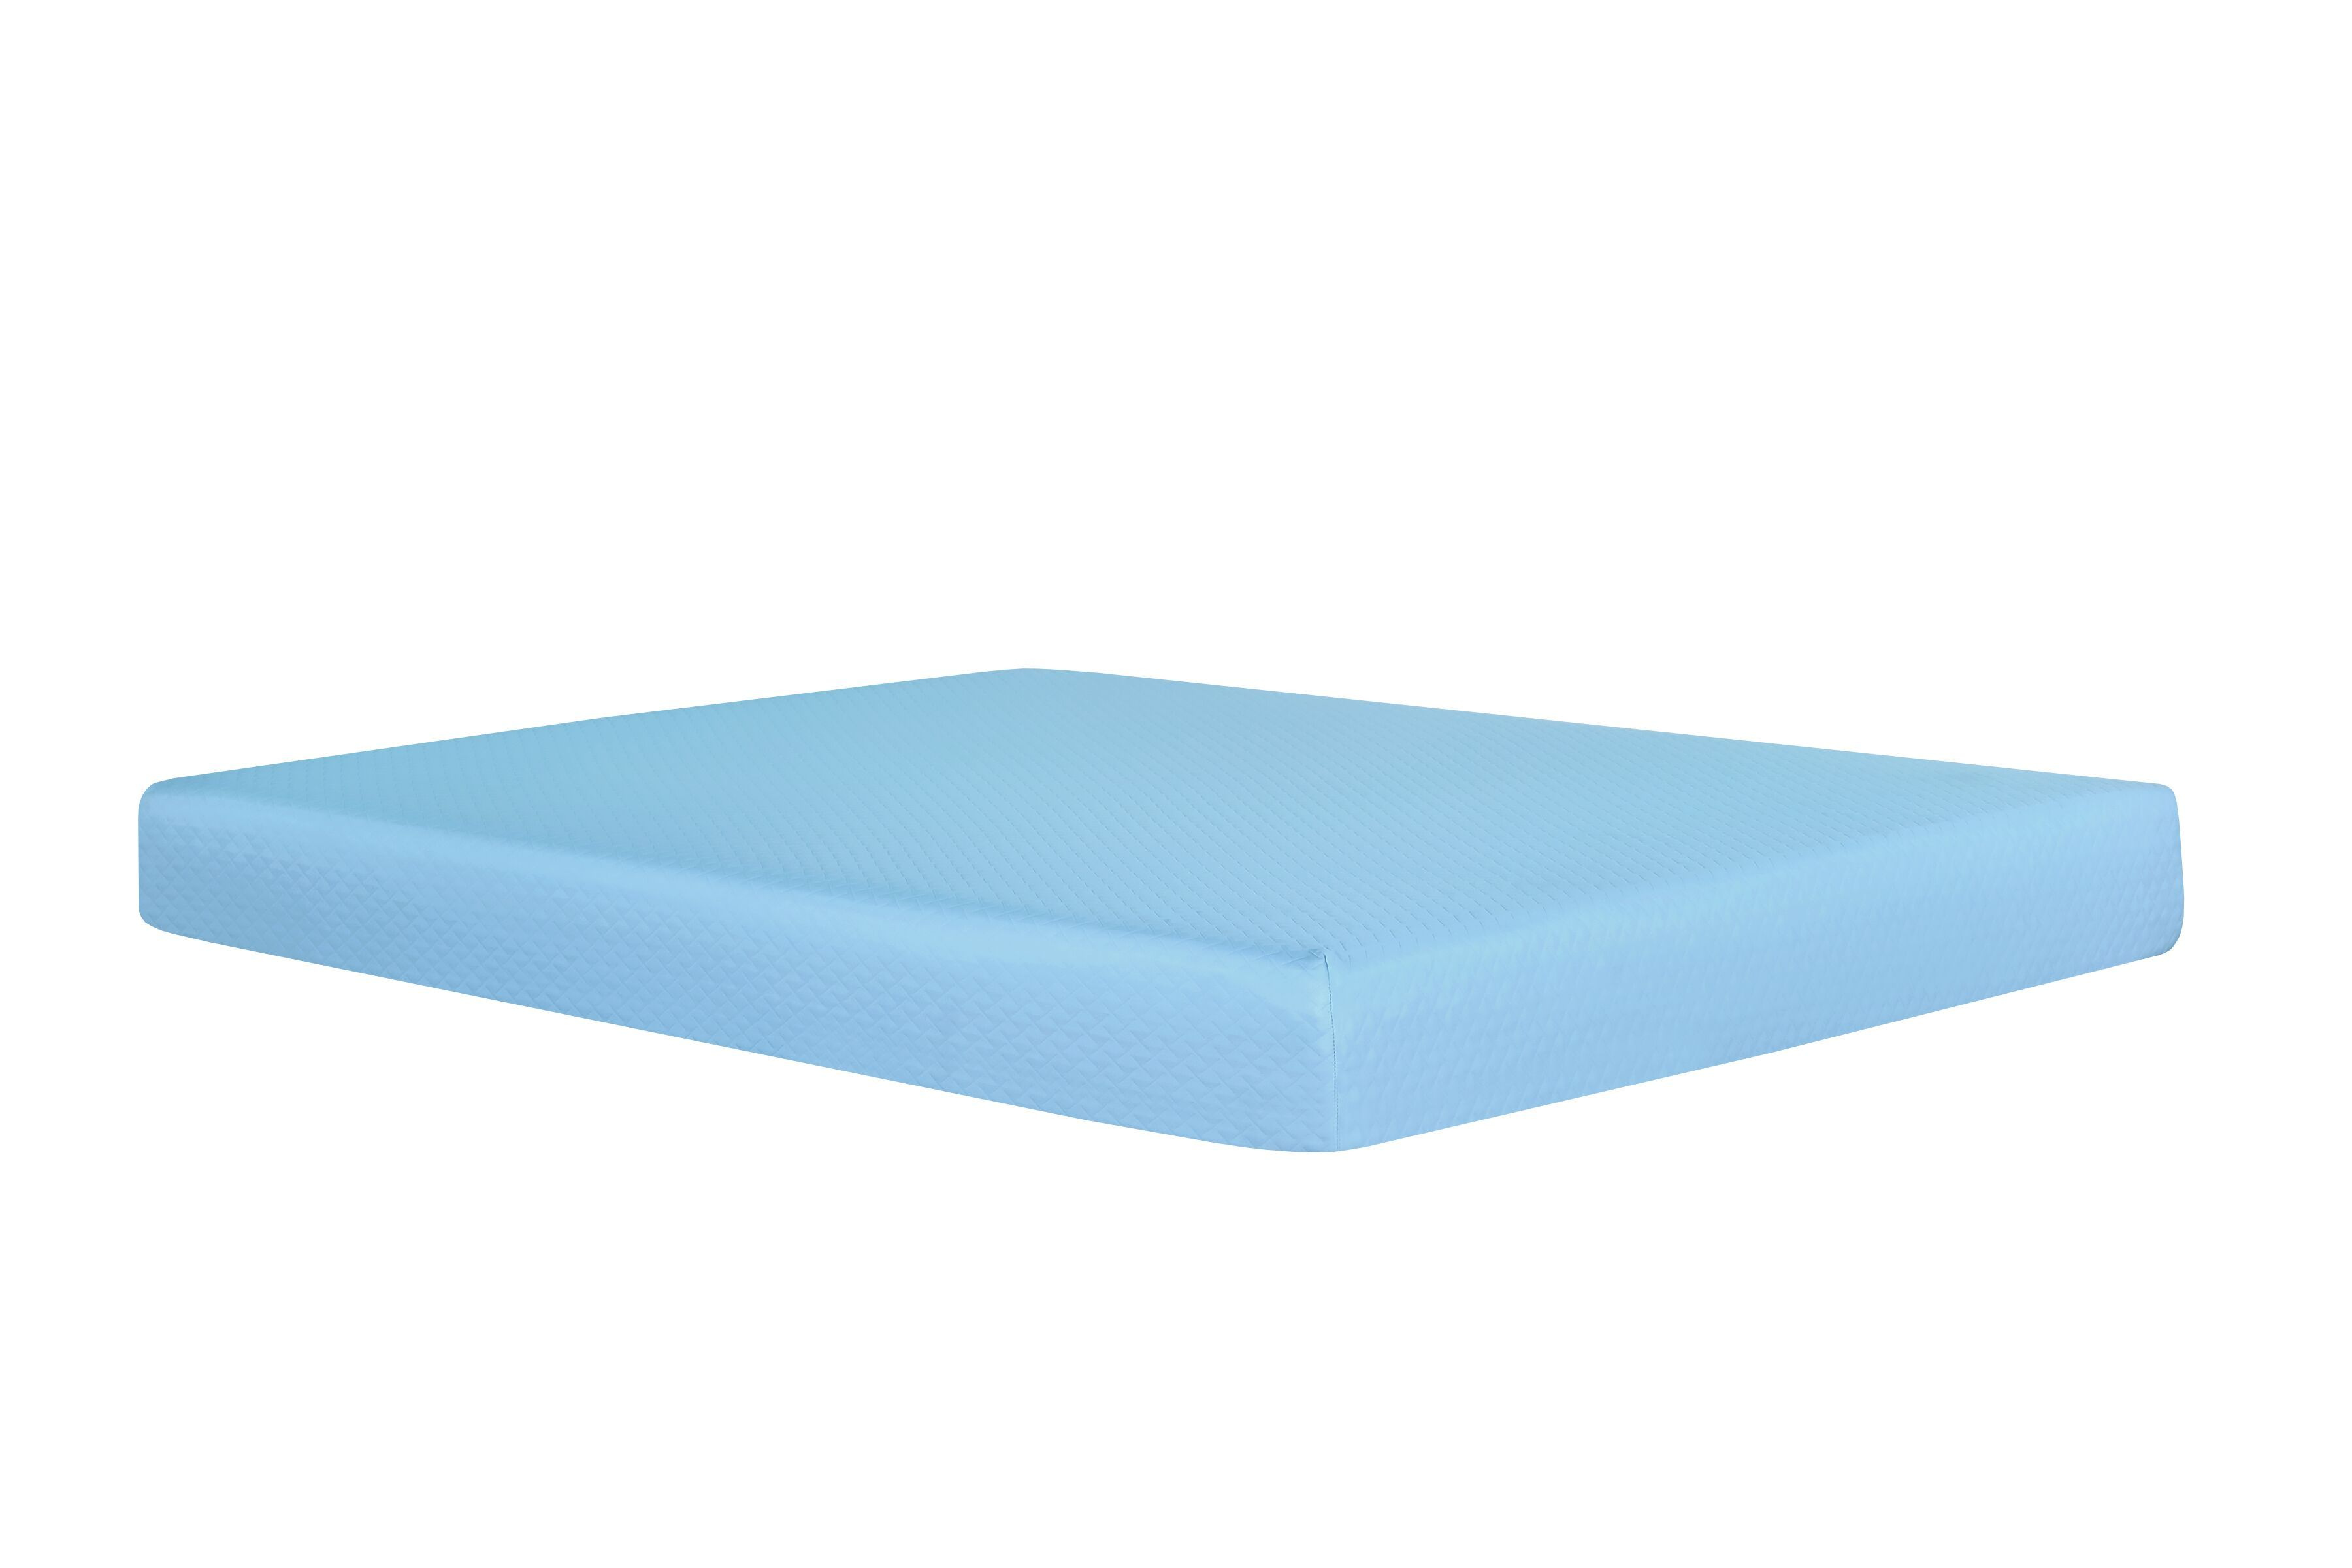Foam Box: (108, 649, 2224, 1158)
